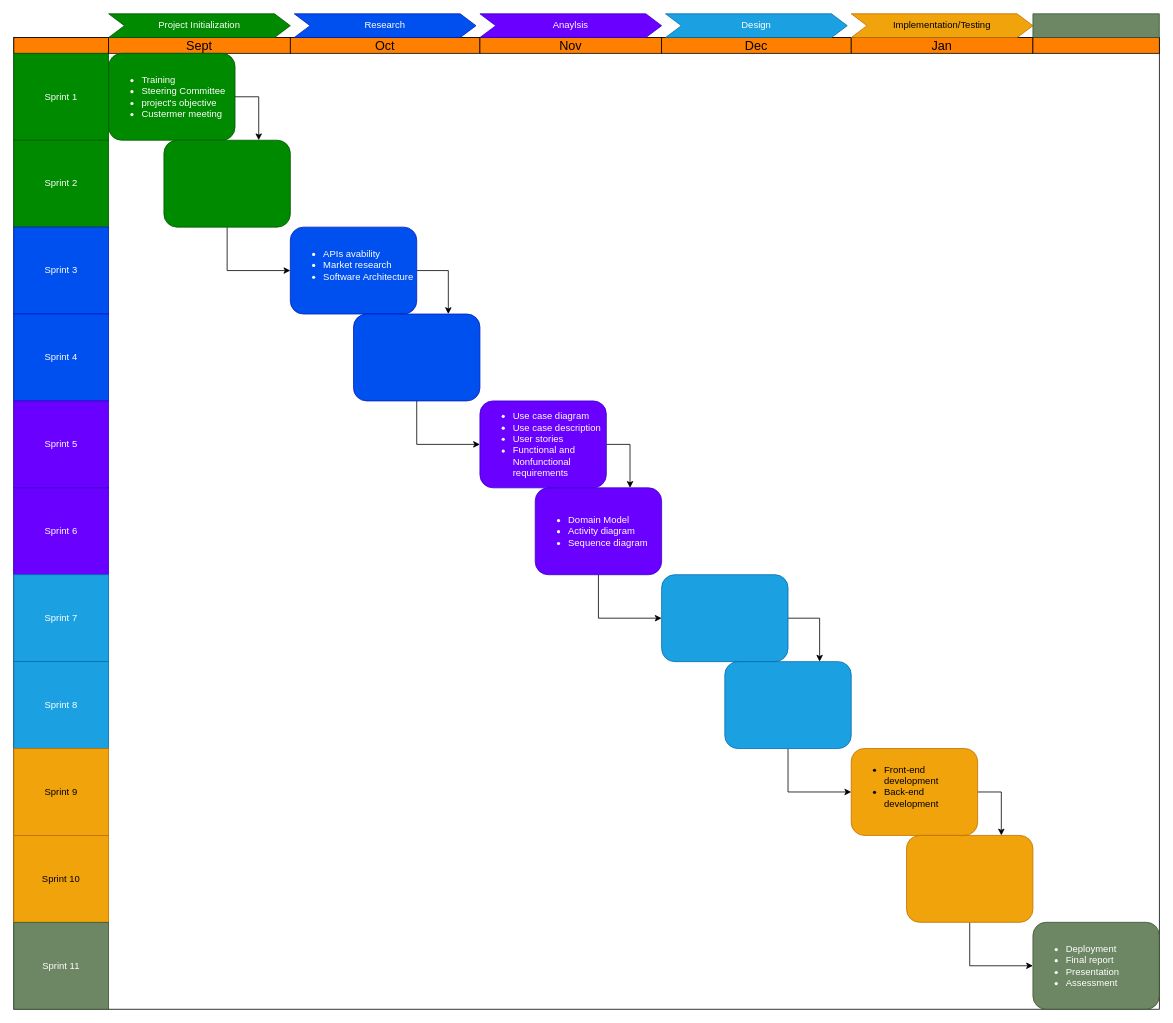
This 1173x1023 diagram has some shape labels left out. Here are the shapes that lost their labels. From the top down, the centre of each, then its label:
At (61,45): "Sprints".
At (1095,25): "closeout".
At (1095,45): "Feb".
At (226,183): "Scope Requirement Gathering meeting Customer meeting Initial plan".
At (416,357): "Frame work Mid-term rep Presentation".
At (724,618): "Architecture Design System structure Components".
At (787,705): "Wireframes Prototypes UI design".
At (969,878): "Test cases Testing and Quality Assuarance".
